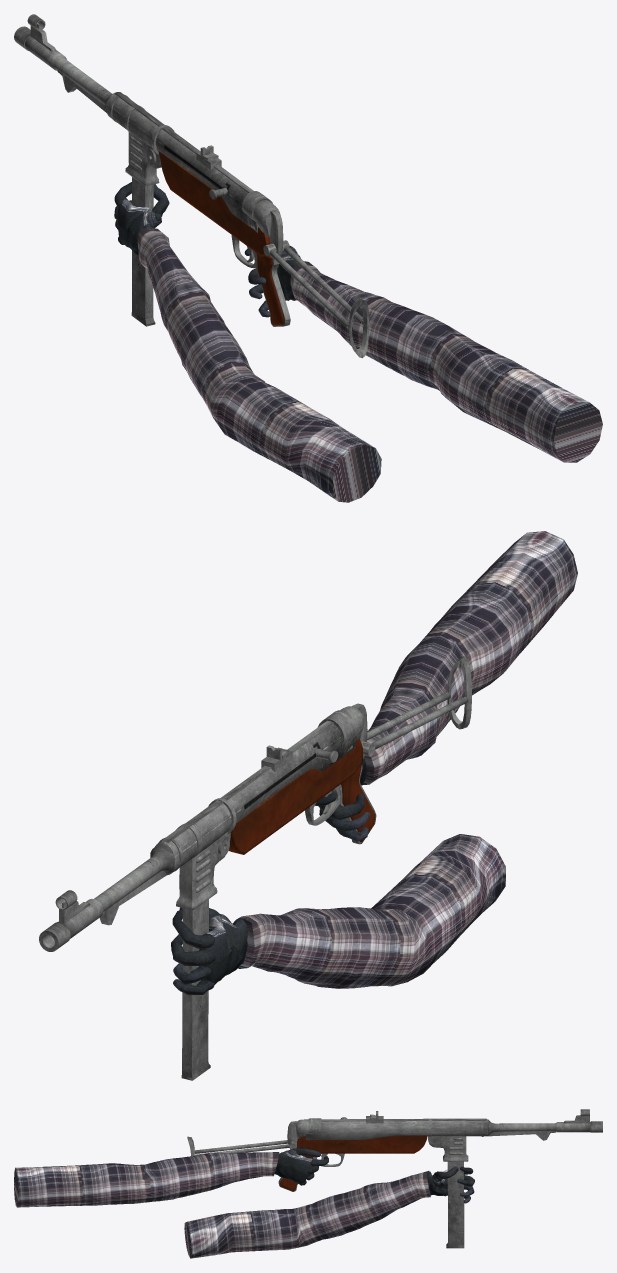
Rendered from mp40_ads.fbx.
3 renders of one model, top to bottom at view 1: azimuth 30°, elevation 25°; view 2: azimuth 150°, elevation 25°; view 3: azimuth 270°, elevation 25°, orthographic. The views are drawn at different scales.
Visible parts, largest first — view 1: larm, rarm, mp40_reciever, mp40_wood, mp40_clip, mp40_barrel, mp40_stockwire, lhand, mp40_pistolgripwood, mp40_stock; view 2: larm, rarm, mp40_reciever, mp40_wood, mp40_clip, mp40_barrel, lhand, mp40_stockwire, mp40_stock, mp40_pistolgripwood, lmfinger; view 3: rarm, larm, mp40_reciever, mp40_wood, mp40_clip, mp40_barrel, rhand, mp40_stockwire, lhand, mp40_battlemount, mp40_frontsight.
Boxes of the visible parts, x1=… form: larm: x1=137, y1=228, x2=381, y2=502; rarm: x1=290, y1=261, x2=602, y2=462; mp40_reciever: x1=107, y1=92, x2=279, y2=236; mp40_wood: x1=158, y1=151, x2=270, y2=257; mp40_clip: x1=131, y1=177, x2=155, y2=326; mp40_barrel: x1=14, y1=26, x2=112, y2=112; mp40_stockwire: x1=269, y1=246, x2=363, y2=328; lhand: x1=117, y1=199, x2=161, y2=255; mp40_pistolgripwood: x1=256, y1=253, x2=284, y2=325; mp40_stock: x1=348, y1=298, x2=369, y2=358; larm: x1=232, y1=834, x2=505, y2=988; rarm: x1=362, y1=531, x2=577, y2=785; mp40_reciever: x1=157, y1=706, x2=364, y2=910; mp40_wood: x1=228, y1=739, x2=362, y2=854; mp40_clip: x1=181, y1=899, x2=210, y2=1080; mp40_barrel: x1=39, y1=842, x2=174, y2=951; lhand: x1=199, y1=914, x2=247, y2=984; mp40_stockwire: x1=367, y1=692, x2=468, y2=749; mp40_stock: x1=447, y1=656, x2=471, y2=729; mp40_pistolgripwood: x1=341, y1=765, x2=374, y2=841; lmfinger: x1=171, y1=934, x2=215, y2=965; rarm: x1=14, y1=1152, x2=279, y2=1207; larm: x1=184, y1=1171, x2=430, y2=1258; mp40_reciever: x1=296, y1=1118, x2=488, y2=1161; mp40_wood: x1=297, y1=1135, x2=426, y2=1153; mp40_clip: x1=446, y1=1161, x2=464, y2=1248; mp40_barrel: x1=488, y1=1120, x2=602, y2=1135; rhand: x1=274, y1=1148, x2=313, y2=1184; mp40_stockwire: x1=195, y1=1140, x2=289, y2=1155; lhand: x1=427, y1=1169, x2=464, y2=1196; mp40_battlemount: x1=488, y1=1131, x2=556, y2=1140; mp40_frontsight: x1=564, y1=1109, x2=589, y2=1123.
Size of the model in its own units: 11.12 by 16.21 by 58.08.
Materials: 3 (3 with a texture image).
